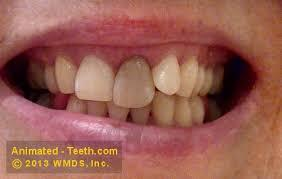Calculus: (116, 51, 159, 107)
